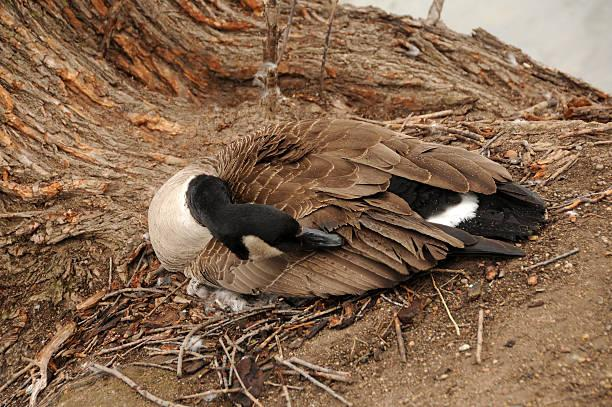Canadian-Goose: (150, 118, 545, 296)
